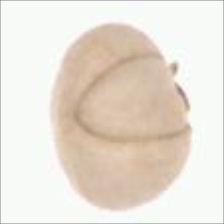L5: (73, 51, 196, 145), (44, 100, 84, 182), (162, 53, 192, 128)
L6: (42, 19, 196, 214)
